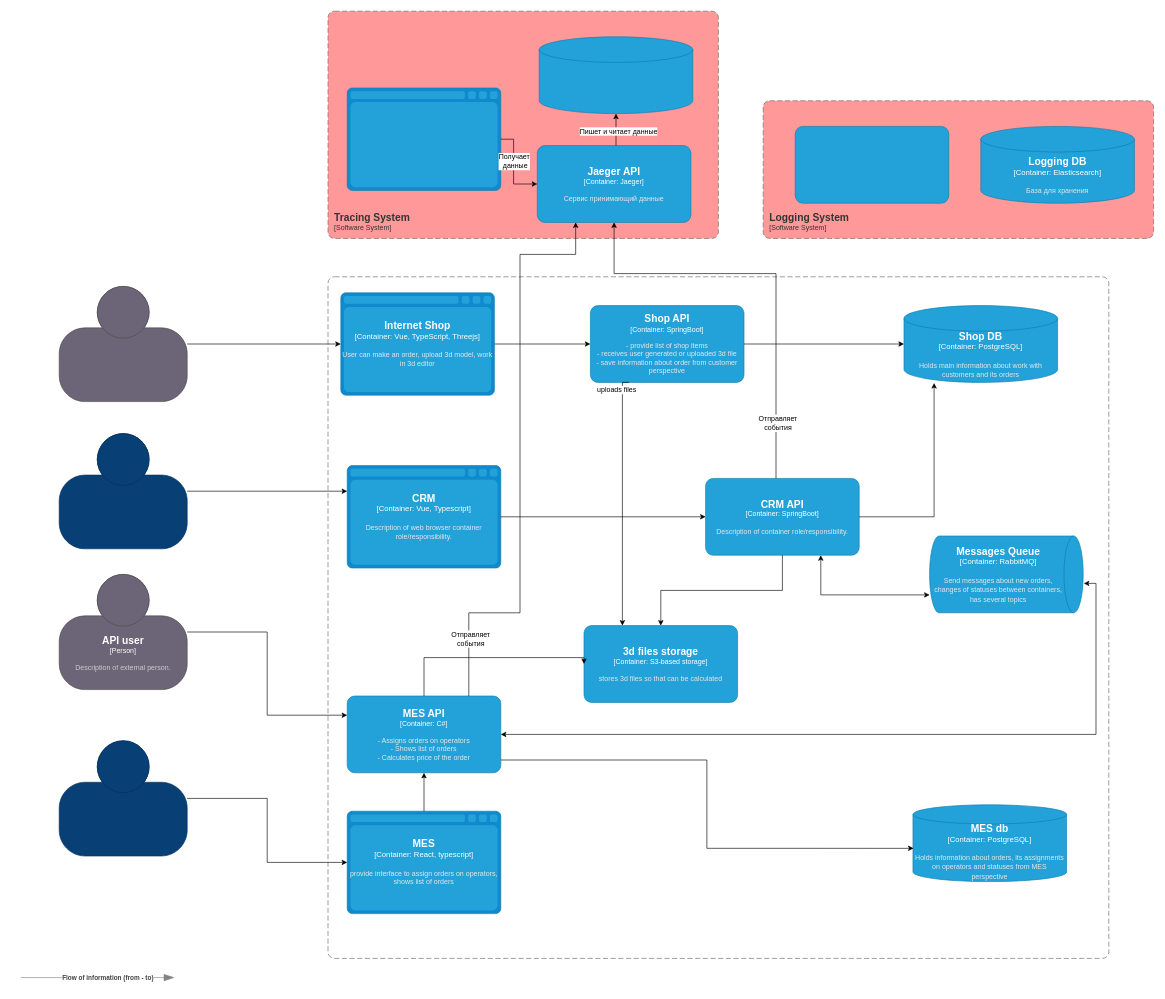
Image size: 1165x999. Some labels were removed from this diagram. The shapes that lost their labels are listed below. From the top down, each one's box as (x1, y1, x2, y2) in pixels, then its label:
(539, 36, 693, 114): Tracing DB [Container: Elasticsearch] База для хранения
(347, 87, 501, 190): Jaeger UI [Container: Jaeger] Интерфейс для работы с рейсами
(795, 126, 949, 203): Logging UI [Container: Kibana] Сервис принимающий данные
(59, 286, 187, 402): Customer [Person] Description of external person.
(59, 433, 187, 549): Seller [Person] Operates with order, confirms manufacturing for the user
(327, 276, 1109, 958): Jewerly Store System [Software System]
(59, 740, 187, 856): Operator [Person] Takes order in work, manufactures jewerly
